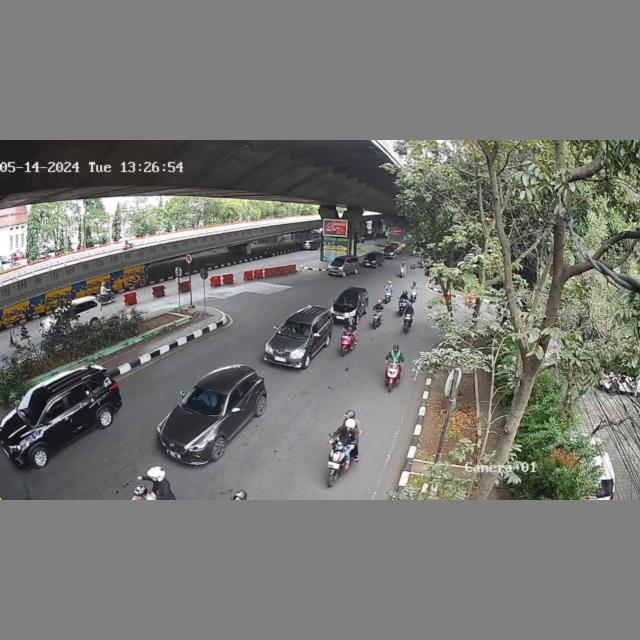windshield: (182, 387, 229, 416), (16, 392, 50, 427), (277, 319, 314, 340), (335, 292, 359, 306)
